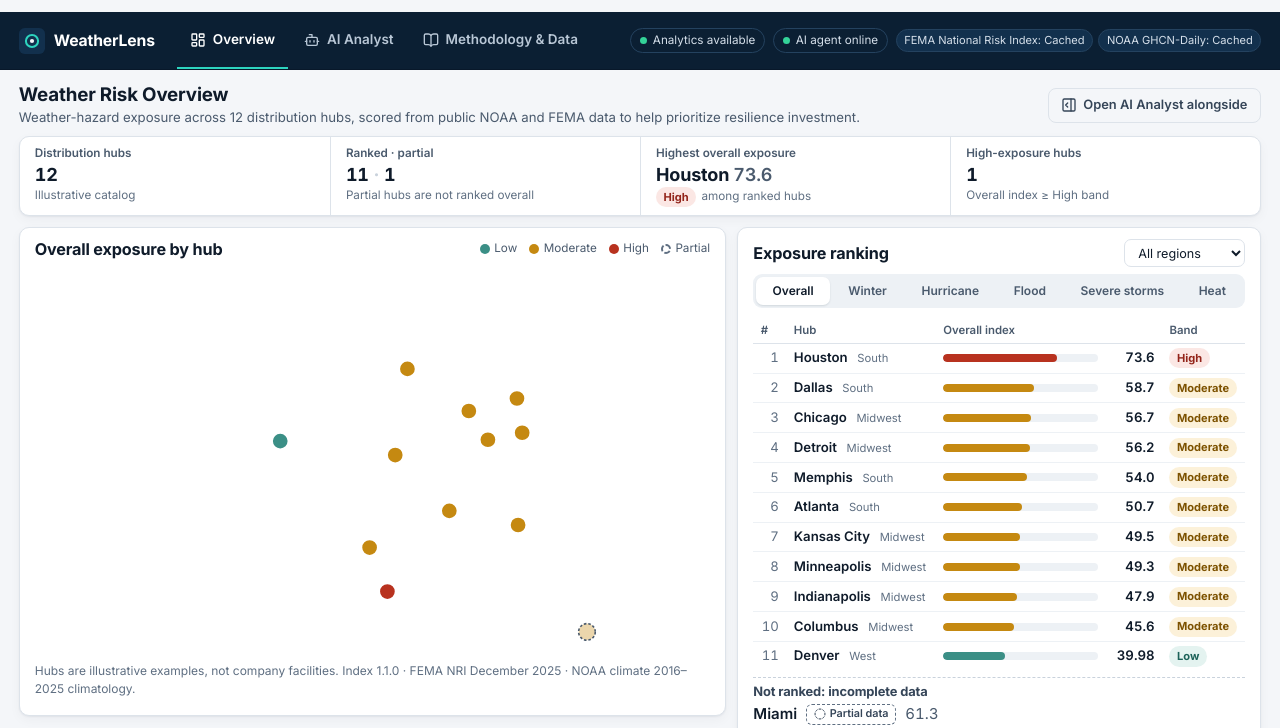
Test case: AI Analyst › renders ranking evidence from the structured payload and sends follow-ups in the same session
This screenshot has width=1280, height=728.
Later steps or results of the test are not shown.
Step 1. Click the button "AI Analyst" → {"x": 349, "y": 40}, box [292, 12, 406, 69]
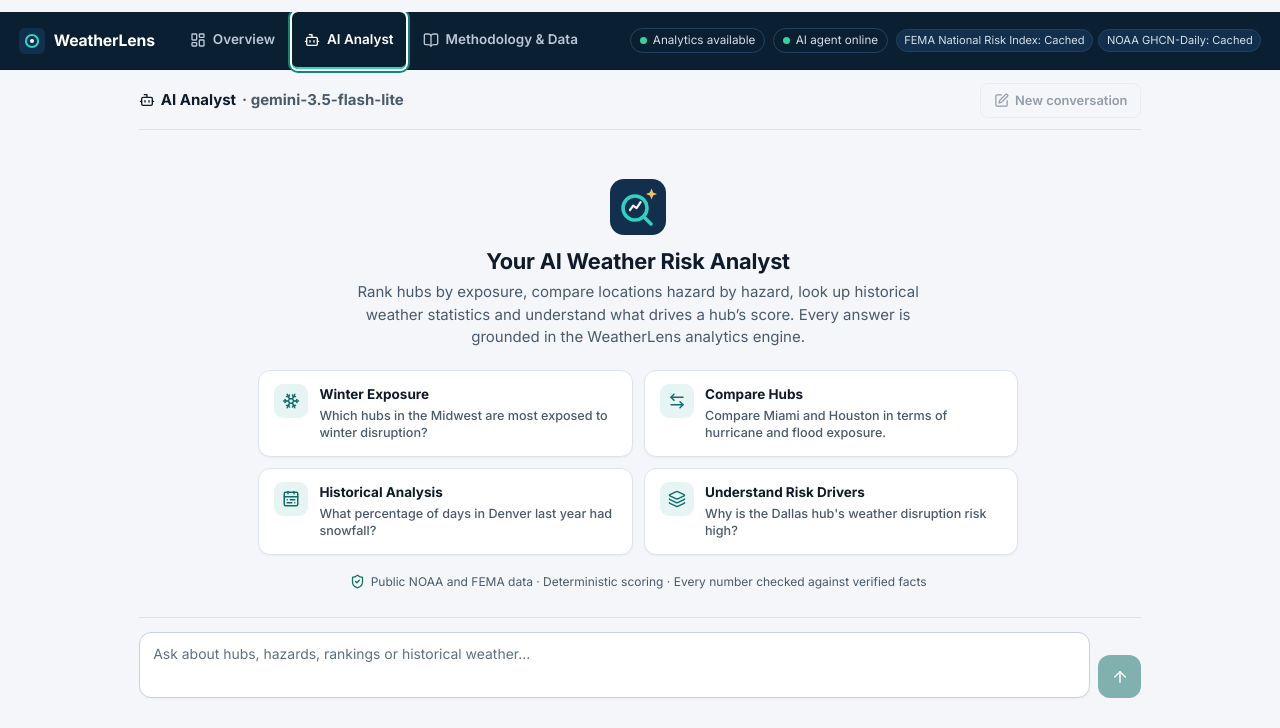
Step 2. Click the button that starts with "Winter Exposure" → {"x": 445, "y": 413}, box [258, 370, 632, 457]
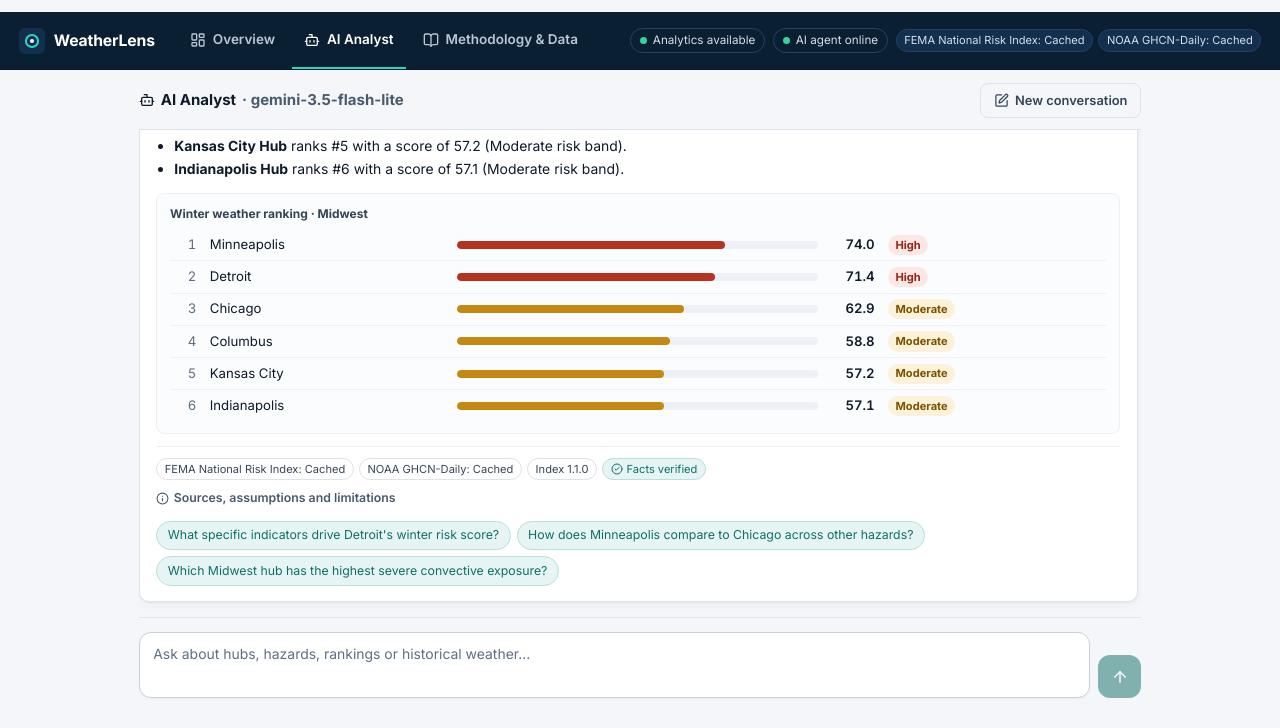
Expected: the row "1 Minneapolis 74.0 High" is shown, [170, 229, 1106, 261]
